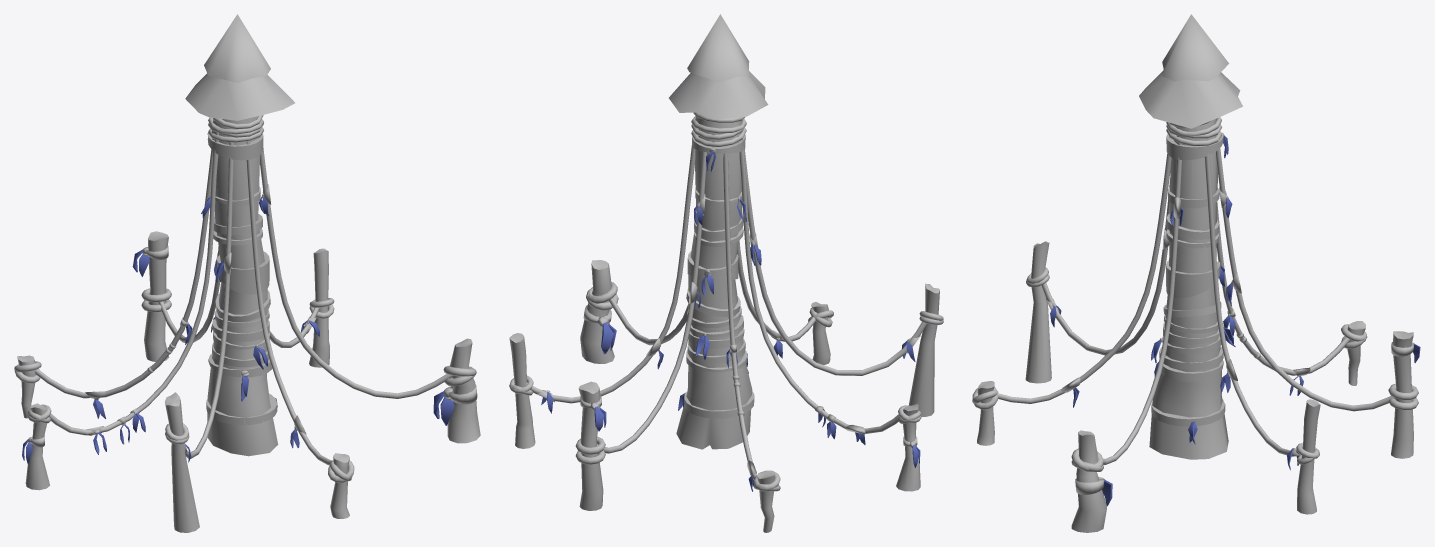
File: SM_Grand_poteau_foulard 1.fbx
3 views of the same model, side by side, from view 1: azimuth 30°, elevation 25°; view 2: azimuth 150°, elevation 25°; view 3: azimuth 270°, elevation 25° (orthographic).
Parts seen in each view (by area): view 1: SM_Wood_big; view 2: SM_Wood_big; view 3: SM_Wood_big.
Part boxes in pixels (left/top/right/bottom): SM_Wood_big: left=14, top=14, right=480, bottom=532; SM_Wood_big: left=509, top=14, right=943, bottom=532; SM_Wood_big: left=972, top=14, right=1420, bottom=532.
Size of the model in its own units: 1381 by 1439 by 1348.
